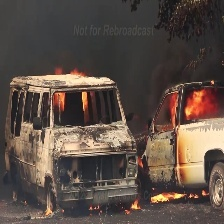fire: (169, 86, 217, 121), (146, 190, 209, 201), (127, 199, 140, 211), (87, 203, 101, 211)
